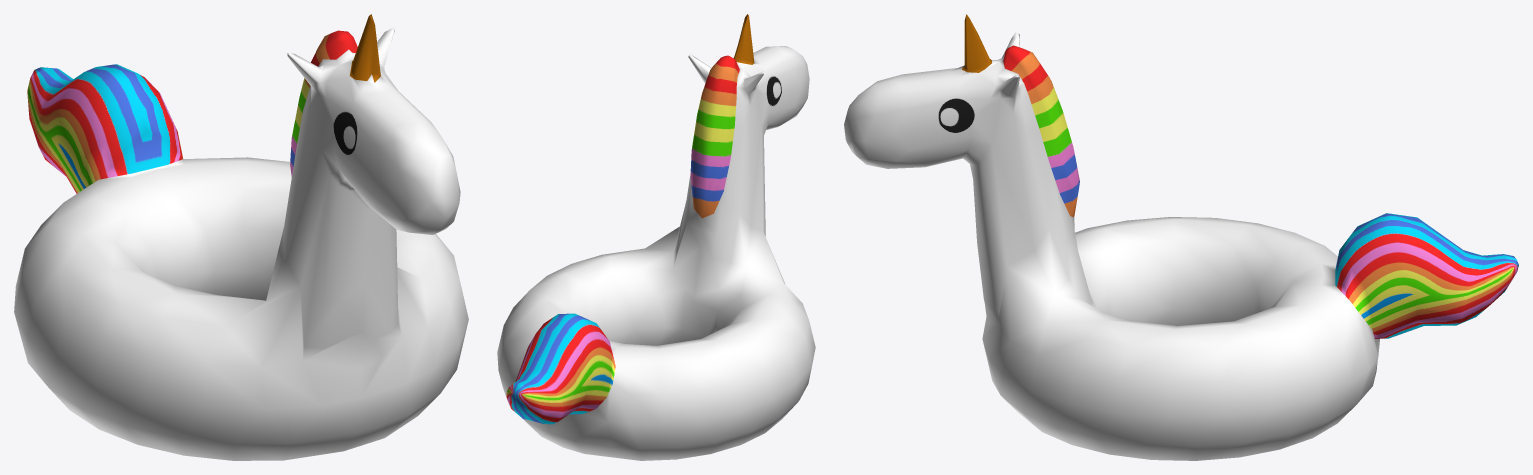
File: unicorno_LOD2.fbx
3 views of the same model, side by side, from view 1: azimuth 30°, elevation 25°; view 2: azimuth 150°, elevation 25°; view 3: azimuth 270°, elevation 25° (orthographic). The views are drawn at different scales.
Parts seen in each view (by area): view 1: Torus_004; view 2: Torus_004; view 3: Torus_004.
Part boxes in pixels (x1=…): Torus_004: x1=14, y1=14, x2=468, y2=460; Torus_004: x1=497, y1=14, x2=815, y2=460; Torus_004: x1=844, y1=14, x2=1518, y2=460.
Bounding box in the file's own units: 288 × 334 × 524.
Materials: 1 (1 with a texture image).
